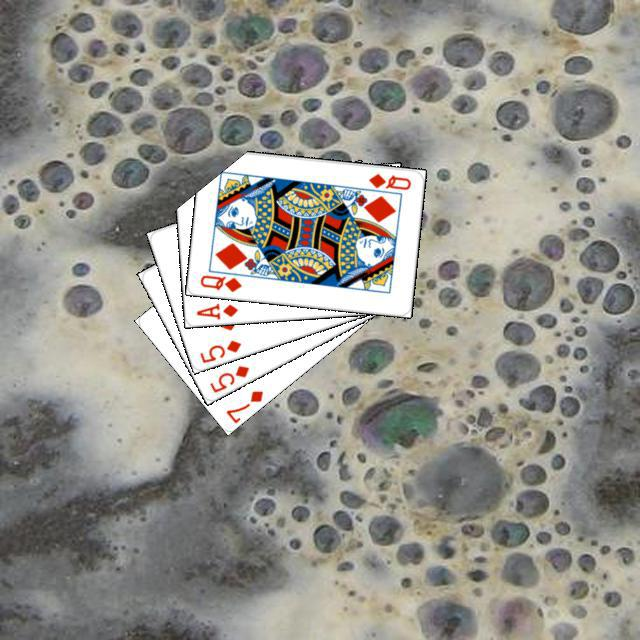5d: (205, 360, 251, 394), (195, 335, 243, 365)
7d: (221, 385, 265, 424)
Ad: (191, 298, 240, 321)
Qd: (195, 270, 243, 293), (363, 169, 412, 191)
